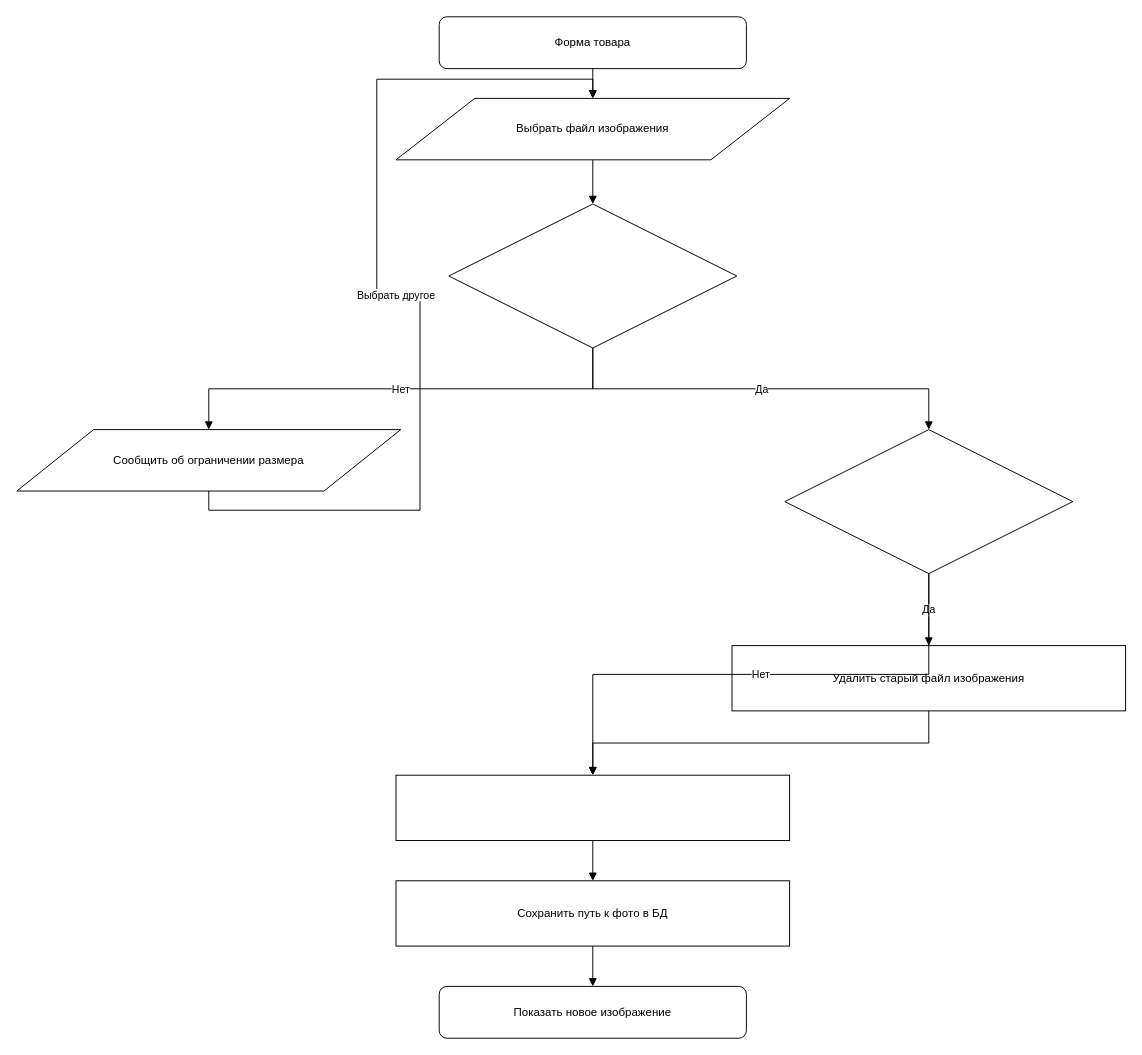
This 1142x1055 diagram has some shape labels left out. The box of each missing label's shape, as (x1, y1, x2, y2) in pixels:
Размер изображения не больше 300×200 пикселей?: (448, 203, 737, 348)
Сохранить новый файл в папку приложения: (395, 774, 790, 840)
У товара уже есть фото?: (784, 429, 1073, 574)
